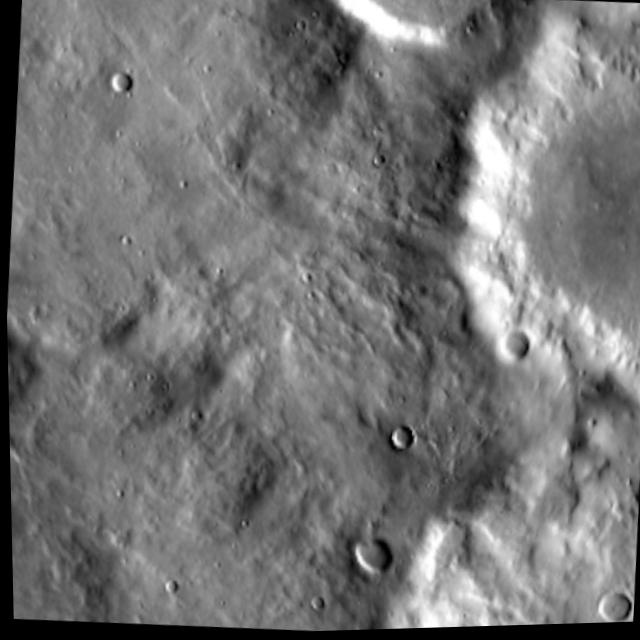Crater: (235, 393, 640, 635), (451, 6, 640, 436), (314, 0, 523, 74)
